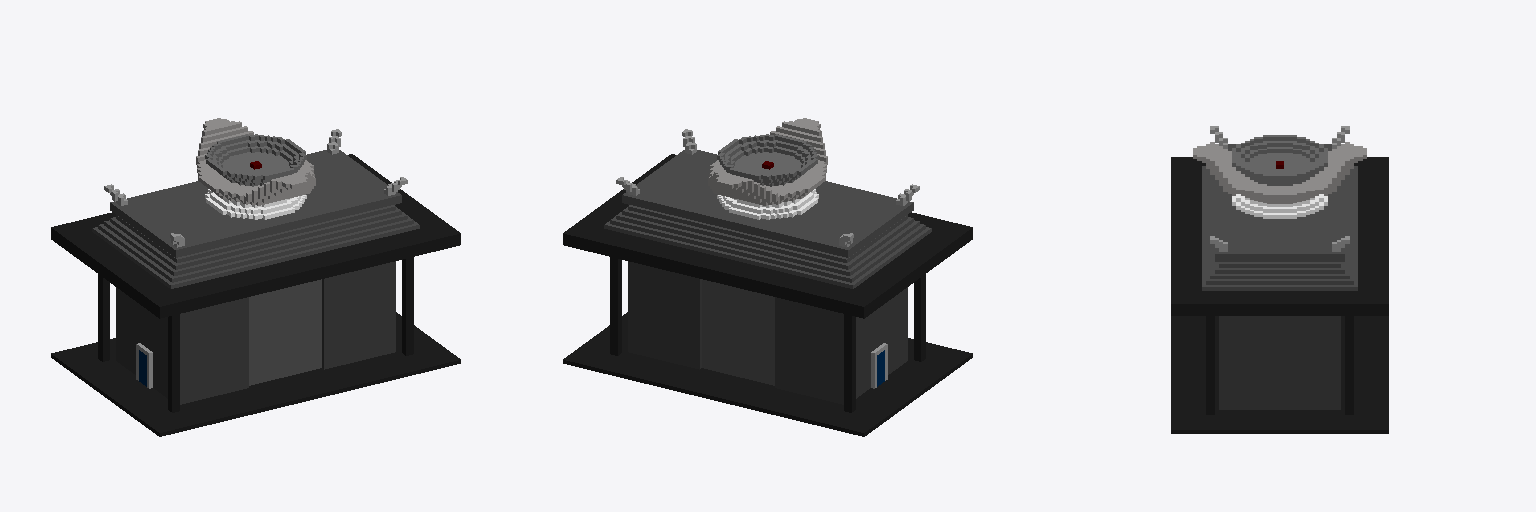
The picture shows the model from 3 angles: view 1: azimuth 30°, elevation 25°; view 2: azimuth 150°, elevation 25°; view 3: azimuth 270°, elevation 25°; orthographic projection.
Visible parts, largest first — view 1: object 1; view 2: object 1; view 3: object 1.
Part boxes in pixels (left/top/right/bottom): object 1: left=51, top=118, right=460, bottom=436; object 1: left=563, top=118, right=972, bottom=436; object 1: left=1171, top=126, right=1388, bottom=433.
Size of the model in its own units: 8 by 5.3 by 5.
1 materials, 1 textured.